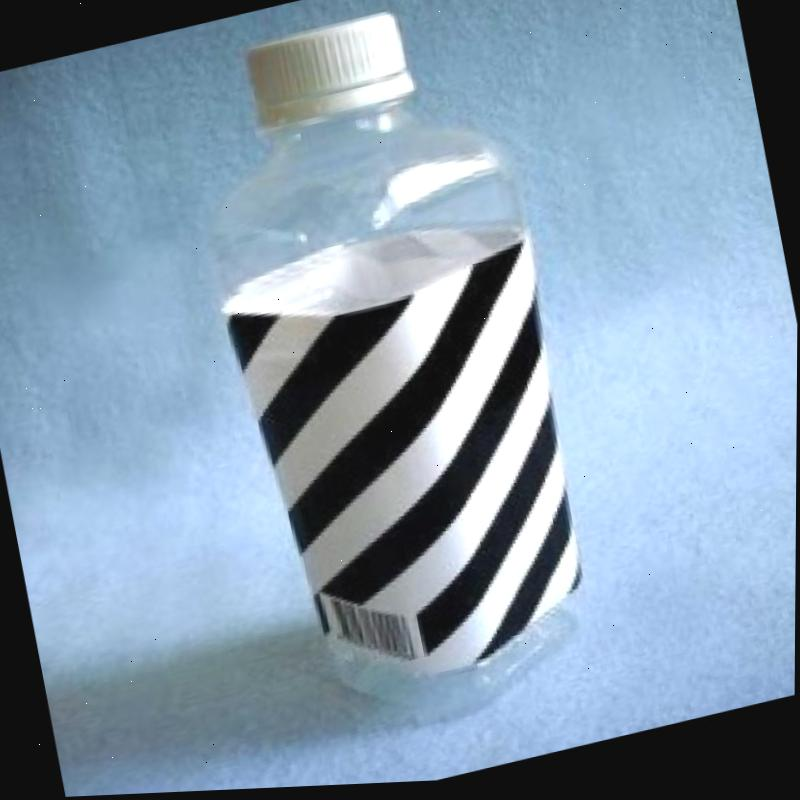botella: (173, 0, 615, 750)
